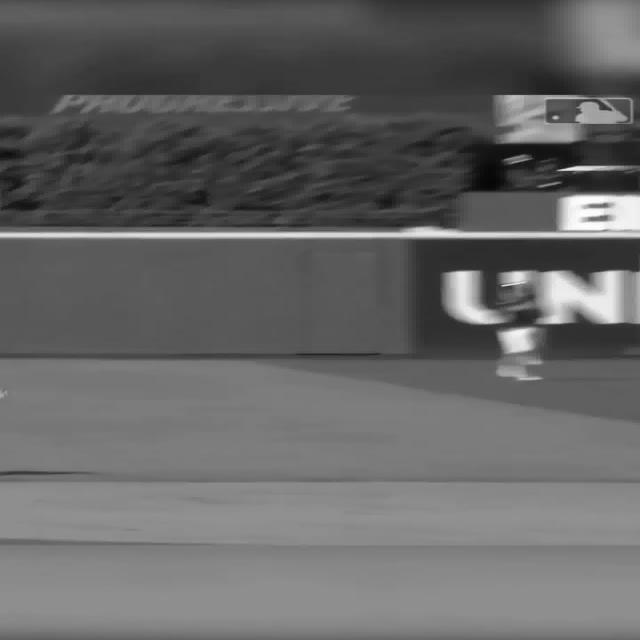shoe: (494, 363, 542, 381)
